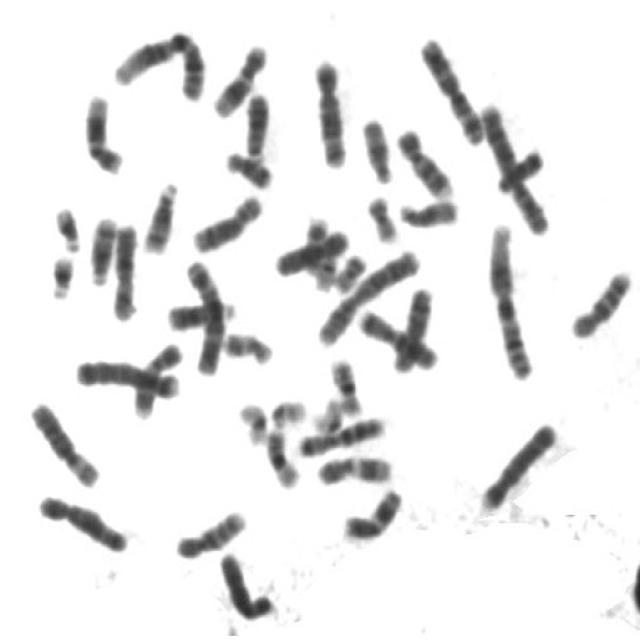A1: (481, 213, 536, 381), (106, 21, 209, 103)
A2: (310, 241, 423, 348), (472, 93, 553, 237)
A3: (412, 27, 487, 146), (178, 252, 227, 377)
B4: (472, 412, 560, 515), (67, 350, 183, 400)
B5: (30, 484, 131, 555), (304, 49, 350, 170)
C10: (562, 259, 636, 341), (167, 501, 249, 561)
C11: (334, 479, 406, 544), (309, 447, 396, 487)
C12: (206, 33, 270, 120), (76, 84, 127, 175)
C6: (23, 391, 102, 490), (212, 545, 276, 622)
C7: (351, 299, 441, 372), (289, 406, 388, 459)
C8: (184, 183, 265, 254), (386, 277, 437, 376)
C9: (388, 118, 457, 200), (126, 333, 186, 420)
D13: (161, 291, 239, 334), (236, 82, 272, 160)
D14: (134, 171, 180, 256), (82, 207, 118, 287)
D15: (354, 107, 396, 185), (391, 189, 462, 230)
E16: (259, 419, 303, 491), (323, 349, 366, 419)
E17: (216, 322, 276, 368), (301, 210, 335, 287)
E18: (489, 138, 547, 196), (217, 140, 275, 190)
F19: (230, 392, 270, 447), (305, 390, 346, 436)
F20: (359, 185, 401, 245), (326, 244, 370, 294)
G21: (46, 196, 83, 253), (41, 245, 77, 302)
G22: (307, 245, 350, 298), (264, 389, 309, 428)
X: (262, 227, 356, 280), (104, 214, 140, 323)
